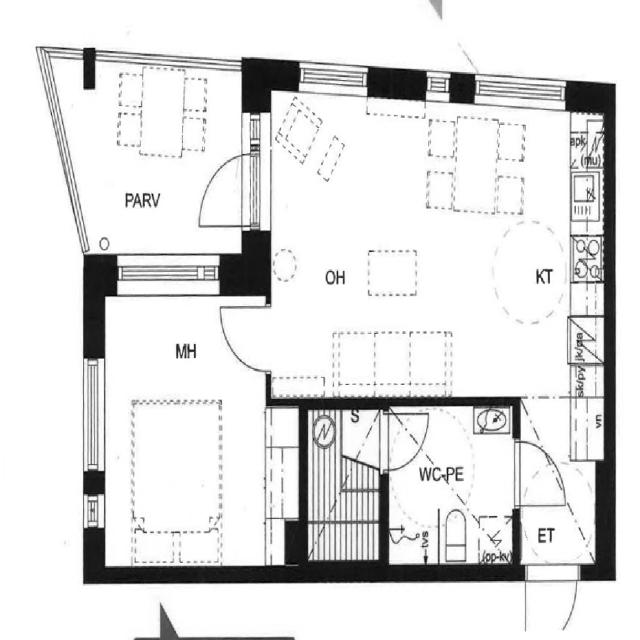door: (523, 562, 582, 636), (196, 150, 249, 232), (219, 298, 272, 380), (511, 433, 562, 512), (382, 405, 428, 474)
window: (110, 251, 228, 296), (240, 102, 272, 246), (77, 346, 108, 484), (471, 72, 570, 108), (294, 58, 373, 96), (237, 105, 266, 171), (82, 488, 106, 534), (422, 67, 454, 99)
zone: (93, 293, 284, 569), (68, 60, 250, 253), (383, 401, 518, 566), (510, 420, 568, 534), (243, 99, 273, 245)
